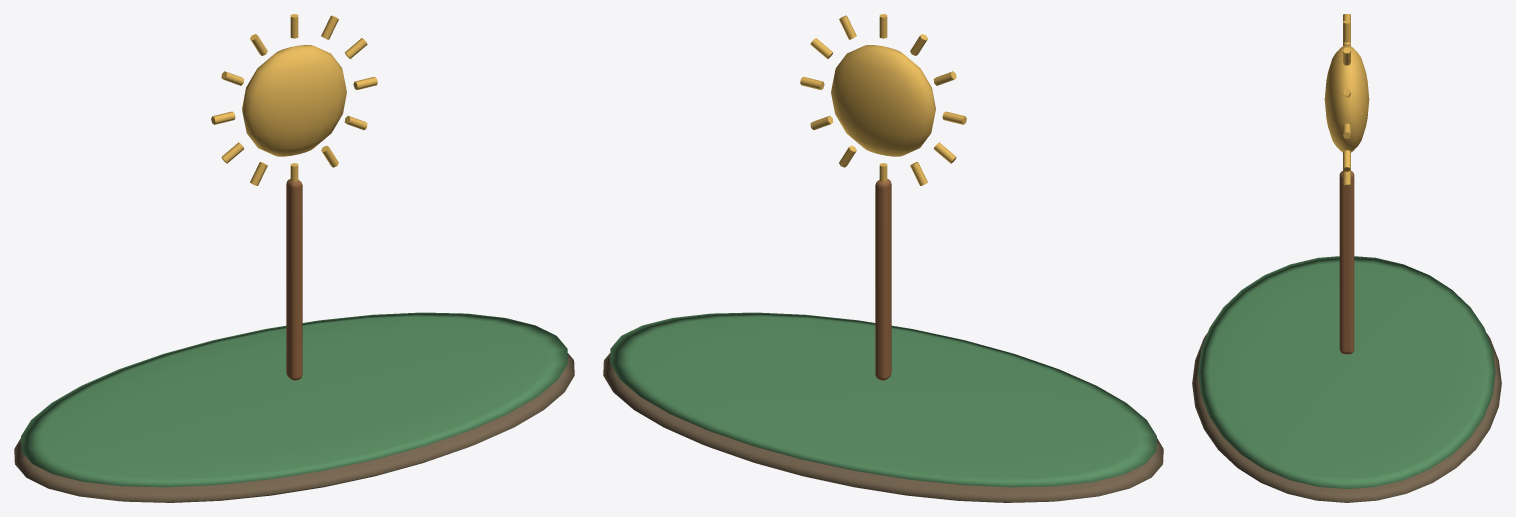
File: middle-noon.glb
3 renders of one model, left to right at view 1: azimuth 30°, elevation 25°; view 2: azimuth 150°, elevation 25°; view 3: azimuth 270°, elevation 25°, orthographic. The views are drawn at different scales.
Visible parts, largest first — view 1: middle-noon_surface_01, middle-noon_surface_03, middle-noon_surface_00, middle-noon_surface_02; view 2: middle-noon_surface_01, middle-noon_surface_03, middle-noon_surface_00, middle-noon_surface_02; view 3: middle-noon_surface_01, middle-noon_surface_00, middle-noon_surface_03, middle-noon_surface_02.
Part boxes in pixels (x1,y1,x2,y2): middle-noon_surface_01: (21,312,567,487); middle-noon_surface_03: (211,14,377,185); middle-noon_surface_00: (14,353,574,502); middle-noon_surface_02: (286,179,302,380); middle-noon_surface_01: (610,312,1156,487); middle-noon_surface_03: (800,14,966,185); middle-noon_surface_00: (603,353,1163,502); middle-noon_surface_02: (875,179,891,380); middle-noon_surface_01: (1198,256,1495,488); middle-noon_surface_00: (1192,333,1501,502); middle-noon_surface_03: (1324,14,1369,184); middle-noon_surface_02: (1339,171,1354,354).
Bounding box in the file's own units: 4.56 × 3.35 × 2.5.
